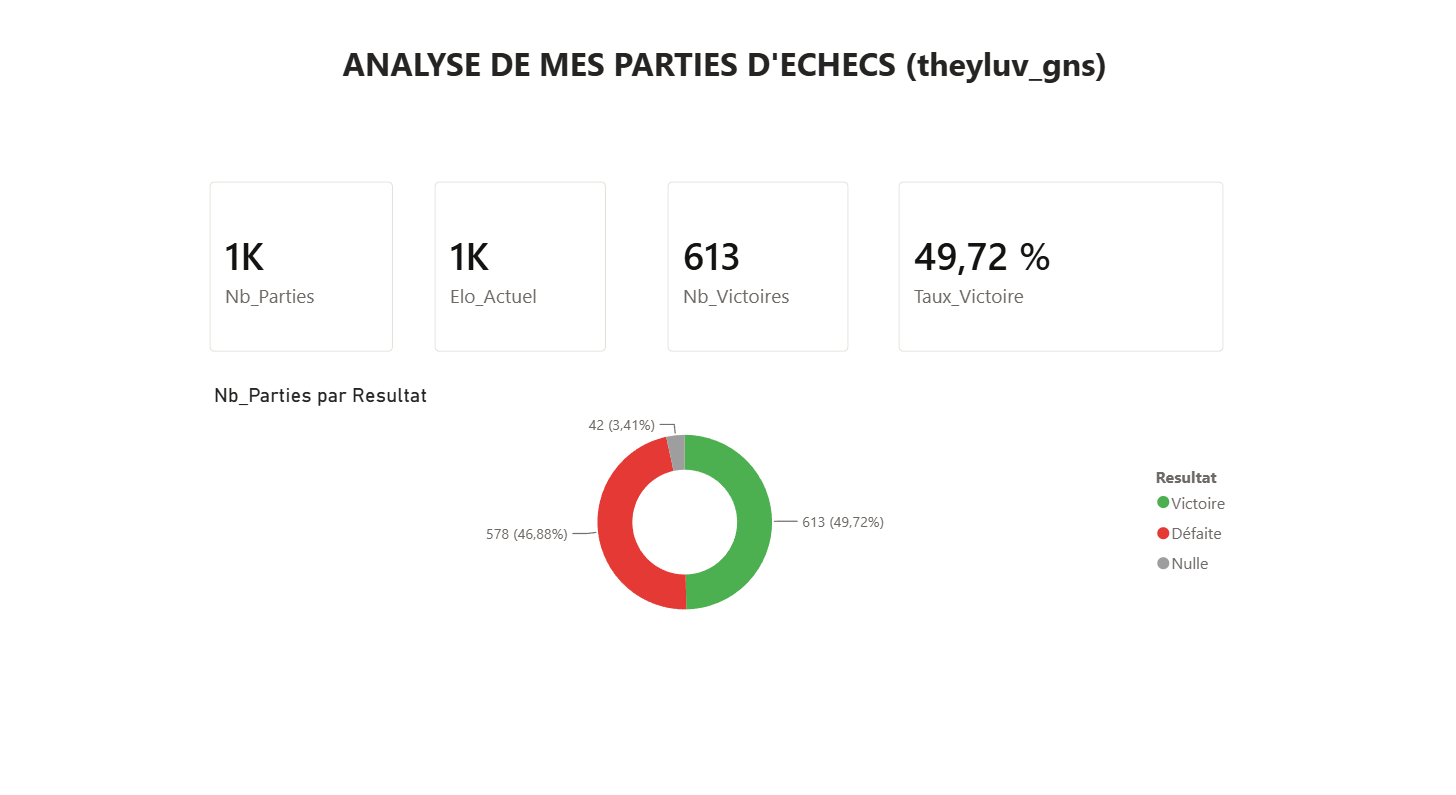

The page's visual inventory and layout, read from the dashboard file:
{"tool":"powerbi","page":{"name":"VUE D'ENSEMBLE","canvas":[1280,720],"ordinal":0},"visuals":[{"type":"cardVisual","fields":{"Data":["chess_data_clean.Nb_Parties"]},"box":[160.7,134.7,187.9,176.4],"z":0},{"type":"cardVisual","fields":{"Data":["chess_data_clean.Nb_Victoires"]},"box":[542.2,134.7,185.7,176.4],"z":1000},{"type":"cardVisual","fields":{"Data":["chess_data_clean.Taux_Victoire"]},"box":[735,134.7,305,176.4],"z":2000},{"type":"cardVisual","fields":{"Data":["chess_data_clean.Elo_Actuel"]},"box":[348.6,134.7,177.9,176.4],"z":3000},{"type":"donutChart","fields":{"Category":["chess_data_clean.Resultat"],"Y":["chess_data_clean.Nb_Parties"]},"box":[176.5,320.4,863.6,212.9],"z":4000},{"type":"textbox","box":[174.7,30.1,864.5,55.9],"z":5000}]}

Visuals, with their boxes on the page's 1280x720 design canvas (x1, y1, x2, y2). These are canvas units, not pixel positions in the 1456x795 screenshot, which may show the page scaled, cropped or inside an application window:
cardVisual - chess_data_clean.Nb_Parties: bbox=(161, 135, 349, 311)
cardVisual - chess_data_clean.Nb_Victoires: bbox=(542, 135, 728, 311)
cardVisual - chess_data_clean.Taux_Victoire: bbox=(735, 135, 1040, 311)
cardVisual - chess_data_clean.Elo_Actuel: bbox=(349, 135, 526, 311)
donutChart - chess_data_clean.Resultat x chess_data_clean.Nb_Parties: bbox=(176, 320, 1040, 533)
textbox: bbox=(175, 30, 1039, 86)
